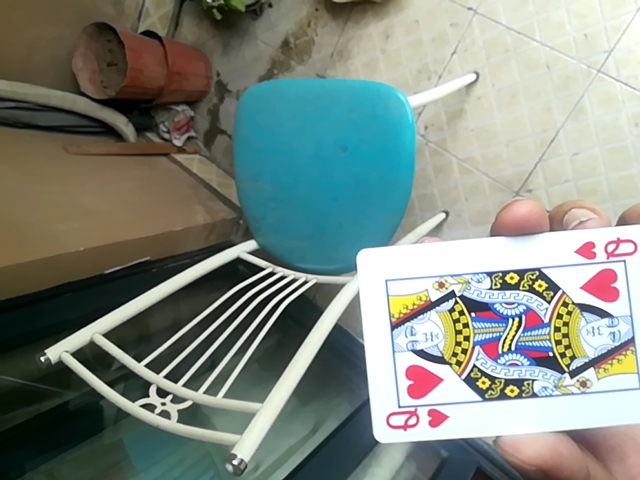hx q: (353, 226, 640, 444)
